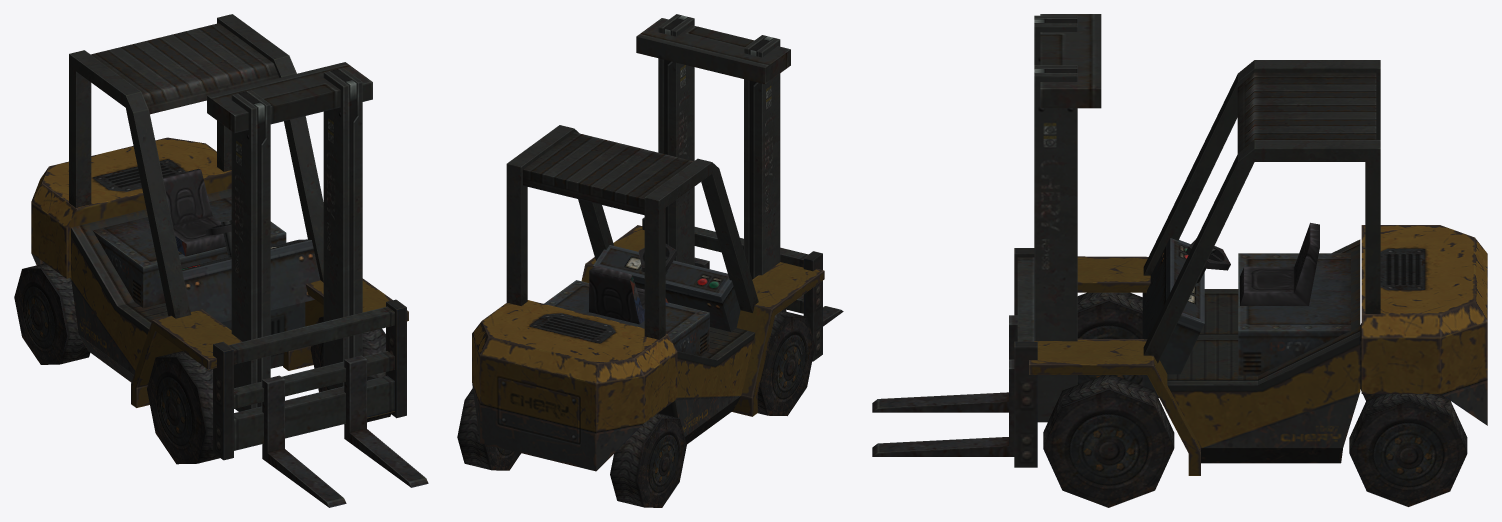
File: Stage-gongchang-chache.FBX
The picture shows the model from 3 angles, left to right: view 1: azimuth 30°, elevation 25°; view 2: azimuth 150°, elevation 25°; view 3: azimuth 270°, elevation 25°; orthographic projection. The views are drawn at different scales.
Visible parts, largest first — view 1: Object47; view 2: Object47; view 3: Object47.
Part boxes in pixels (<box>): Object47: <box>14,14,428,507</box>; Object47: <box>457,14,843,507</box>; Object47: <box>872,14,1487,507</box>.
Size of the model in its own units: 3.07 by 7.28 by 5.35.
